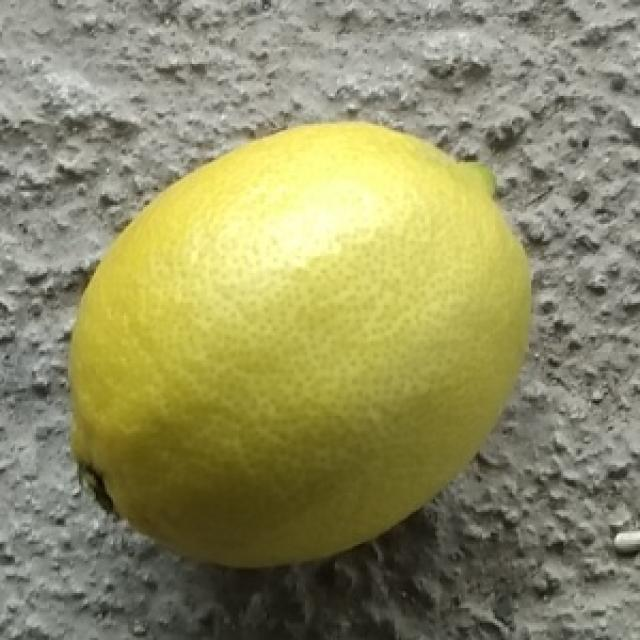Ripe: (57, 110, 542, 578)
